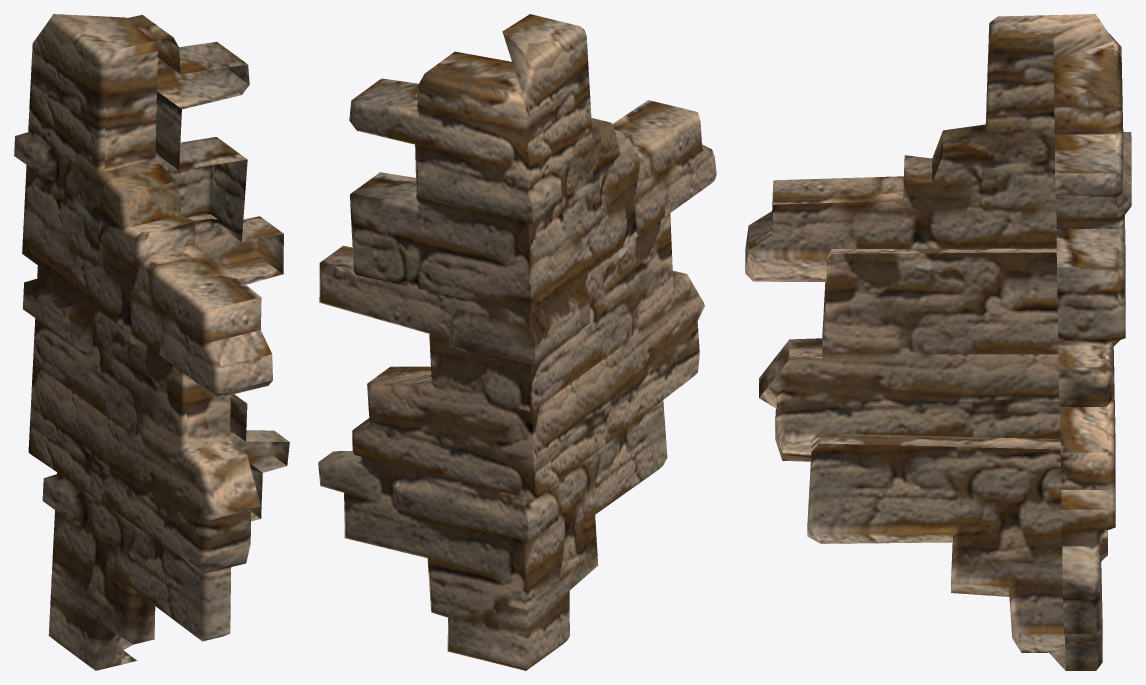
File: lower_city_wall_decor_03.fbx
The picture shows the model from 3 angles, left to right: view 1: azimuth 30°, elevation 25°; view 2: azimuth 150°, elevation 25°; view 3: azimuth 270°, elevation 25°; orthographic projection. The views are drawn at different scales.
Visible parts, largest first — view 1: lower_city_wall_decor_03; view 2: lower_city_wall_decor_03; view 3: lower_city_wall_decor_03.
Boxes of the visible parts, x1,y1,x2,y2 form: lower_city_wall_decor_03: (14, 14, 289, 670); lower_city_wall_decor_03: (318, 14, 716, 670); lower_city_wall_decor_03: (745, 14, 1131, 670).
Bounding box in the file's own units: 0.6031 × 1.51 × 0.8579.
